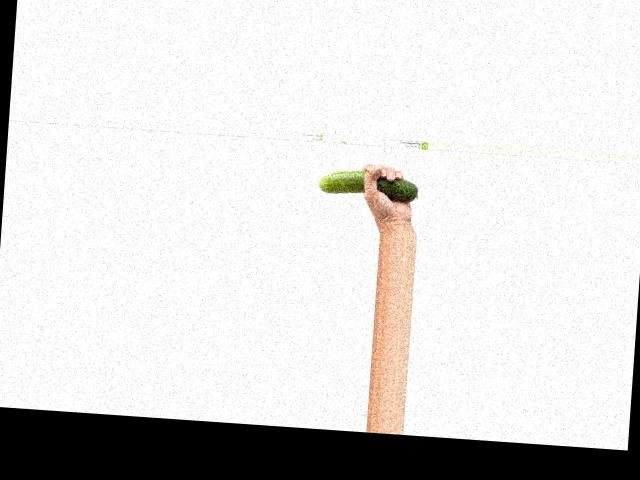cucumber: (318, 167, 418, 201)
